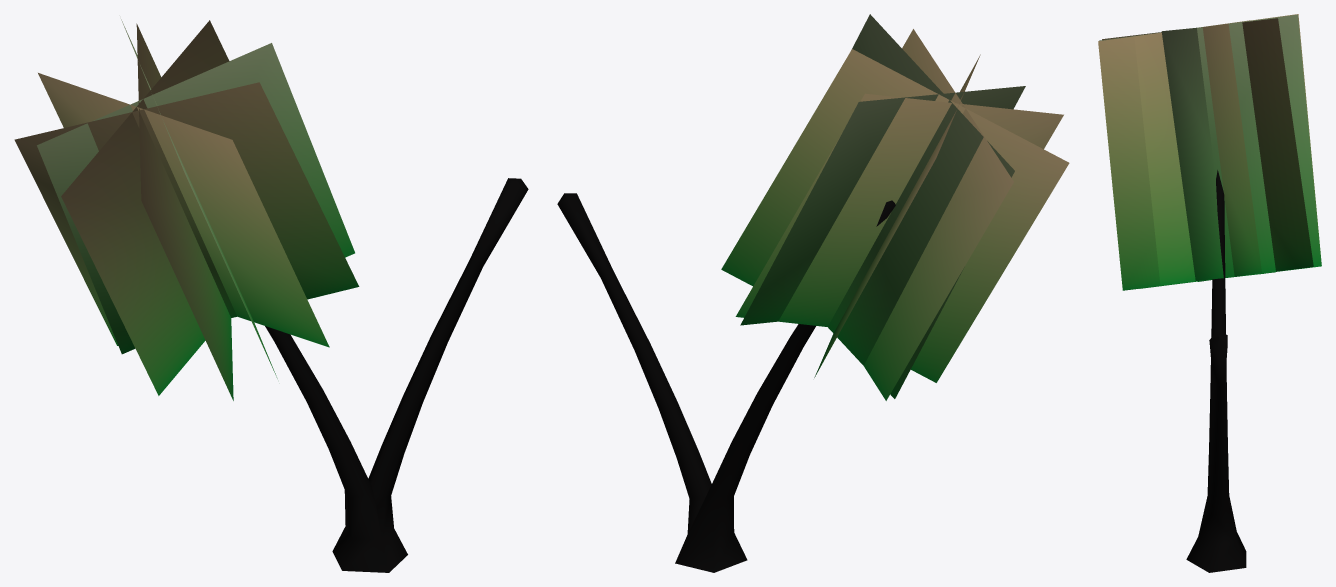
Rendered from Super_Palm_16.fbx.
3 views of the same model, side by side, from view 1: azimuth 30°, elevation 25°; view 2: azimuth 150°, elevation 25°; view 3: azimuth 270°, elevation 25° (orthographic). The views are drawn at different scales.
Parts seen in each view (by area): view 1: Tree_16; view 2: Tree_16; view 3: Tree_16.
Part boxes in pixels (<box>): Tree_16: <box>14,19,528,572</box>; Tree_16: <box>557,14,1069,572</box>; Tree_16: <box>1098,14,1321,572</box>.
Bounding box in the file's own units: 1125 × 1234 × 527.
